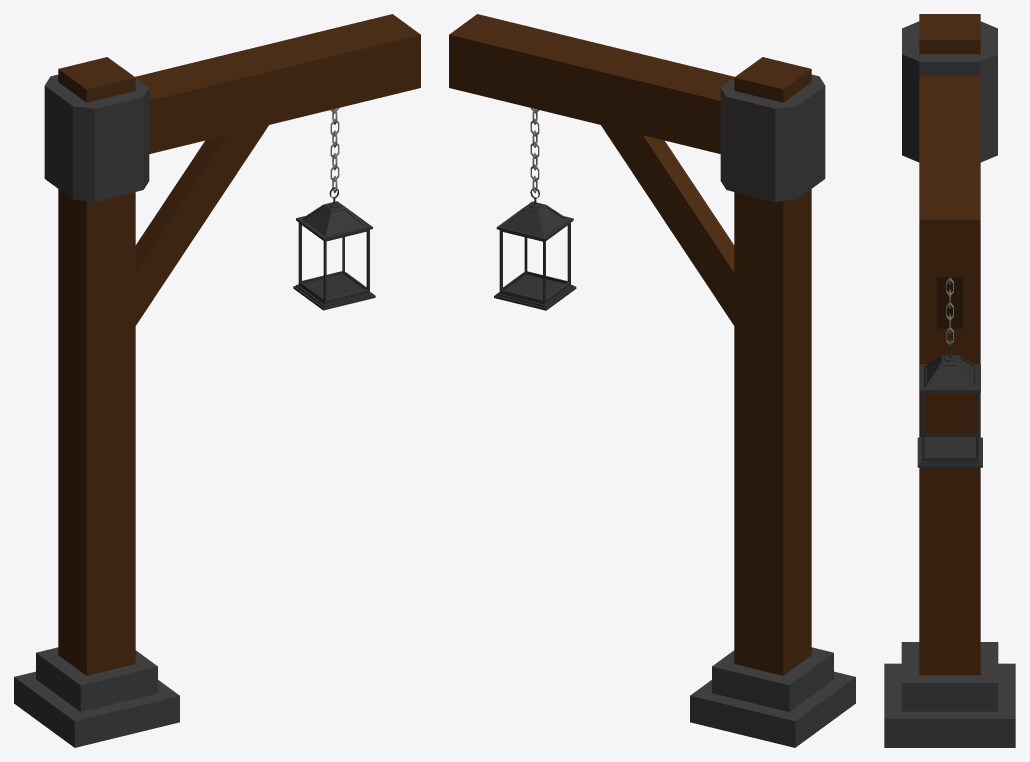
The model's file is Lamp post.FBX.
3 views of the same model, side by side, from view 1: azimuth 30°, elevation 25°; view 2: azimuth 150°, elevation 25°; view 3: azimuth 270°, elevation 25° (orthographic). The views are drawn at different scales.
Parts seen in each view (by area): view 1: Box001, Post connect, Post base, Lantern; view 2: Box001, Post connect, Post base, Lantern; view 3: Box001, Post base, Post connect, Lantern.
Part boxes in pixels (x1,y1,x2,y2): Box001: (58,14,420,675); Post connect: (44,74,149,201); Post base: (14,647,179,747); Lantern: (293,187,375,310); Box001: (449,14,811,675); Post connect: (720,74,825,201); Post base: (690,647,855,747); Lantern: (494,187,576,310); Box001: (919,14,980,675); Post base: (884,642,1015,747); Post connect: (902,21,997,162); Lantern: (917,339,982,467).
Bounding box in the file's own units: 148 × 250 × 42.99.
